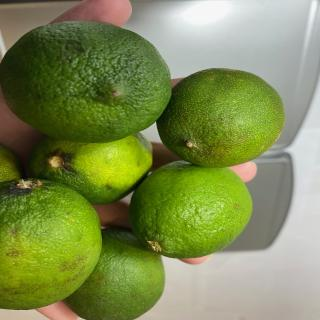Chilli: (156, 67, 285, 168)
Lemon: (0, 20, 172, 144), (0, 178, 103, 310), (129, 160, 253, 259), (63, 227, 166, 320), (28, 132, 153, 205), (0, 144, 24, 183)
